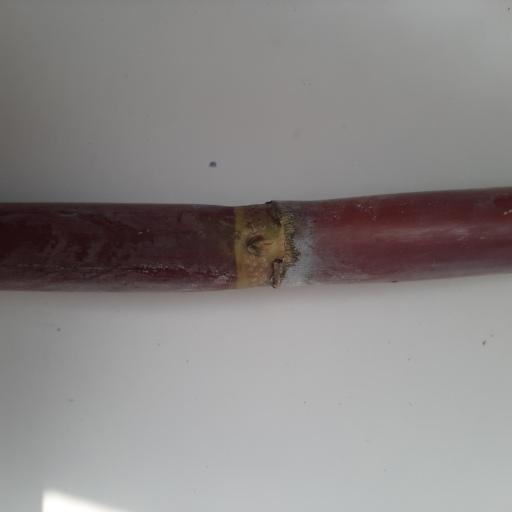Bud: (243, 232, 273, 260)
